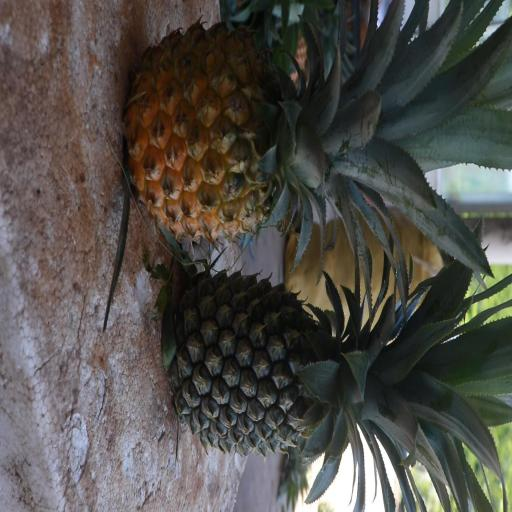Pineapple - v8 v1: (133, 30, 443, 238)
